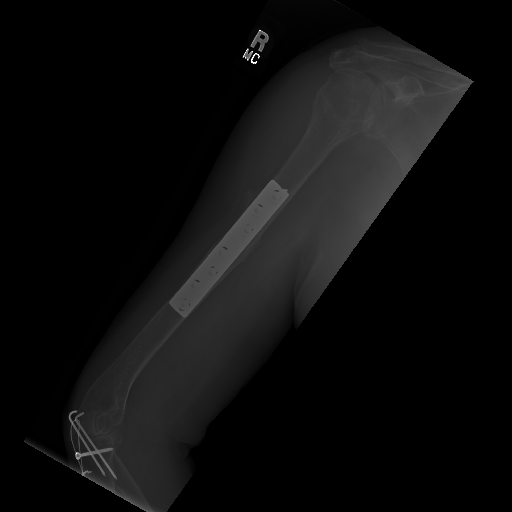implant: (169, 170, 293, 321), (60, 403, 122, 489)
